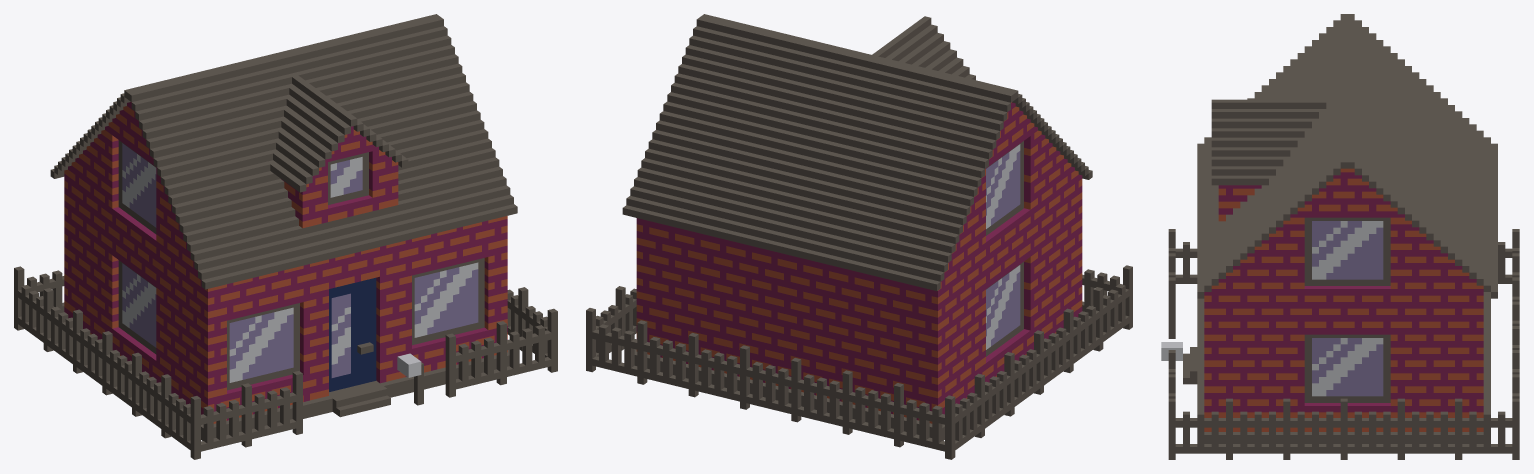
Rendered from house_c_a.obj.
3 views of the same model, side by side, from view 1: azimuth 30°, elevation 25°; view 2: azimuth 150°, elevation 25°; view 3: azimuth 270°, elevation 25° (orthographic). The views are drawn at different scales.
Bounding box in the file's own units: 5.7 × 4.4 × 5.
1 material, 1 textured.
